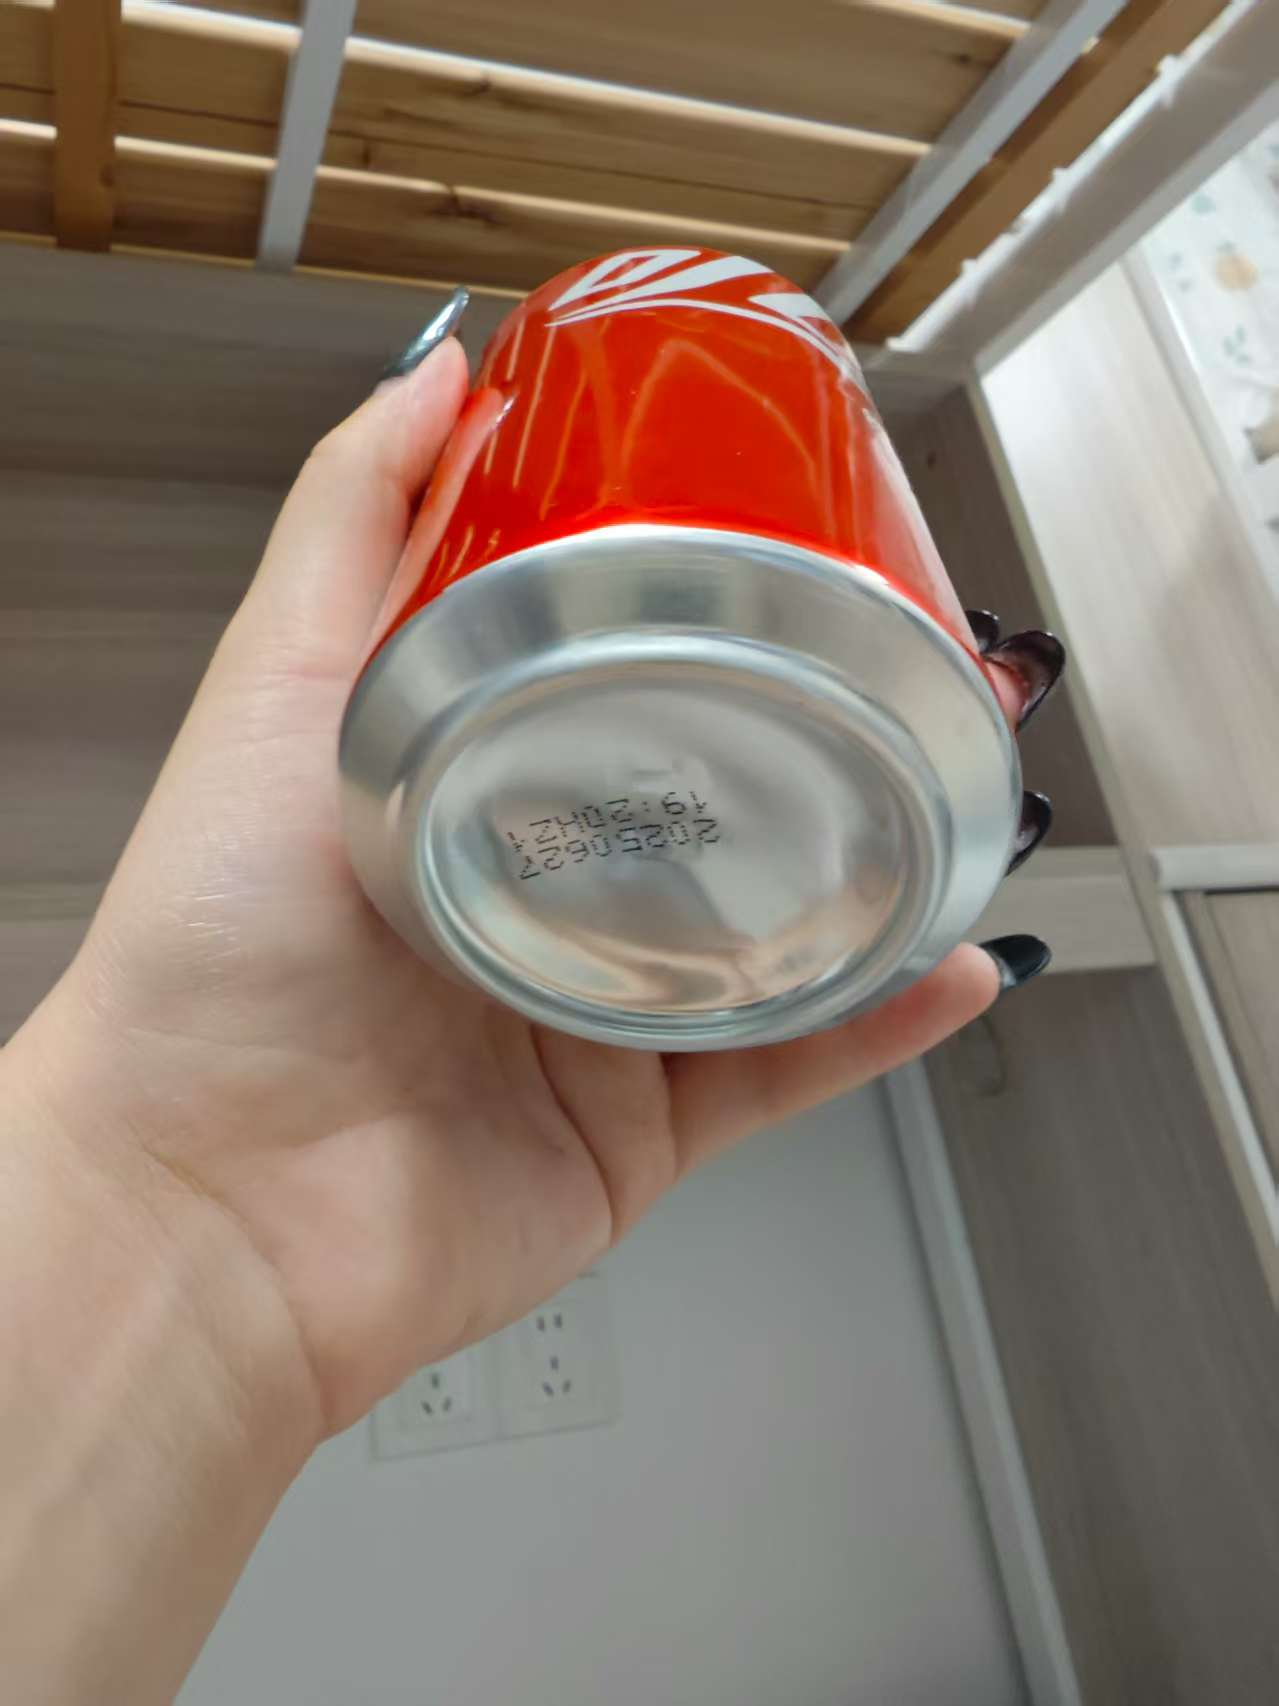可乐: (355, 227, 1040, 1161)
